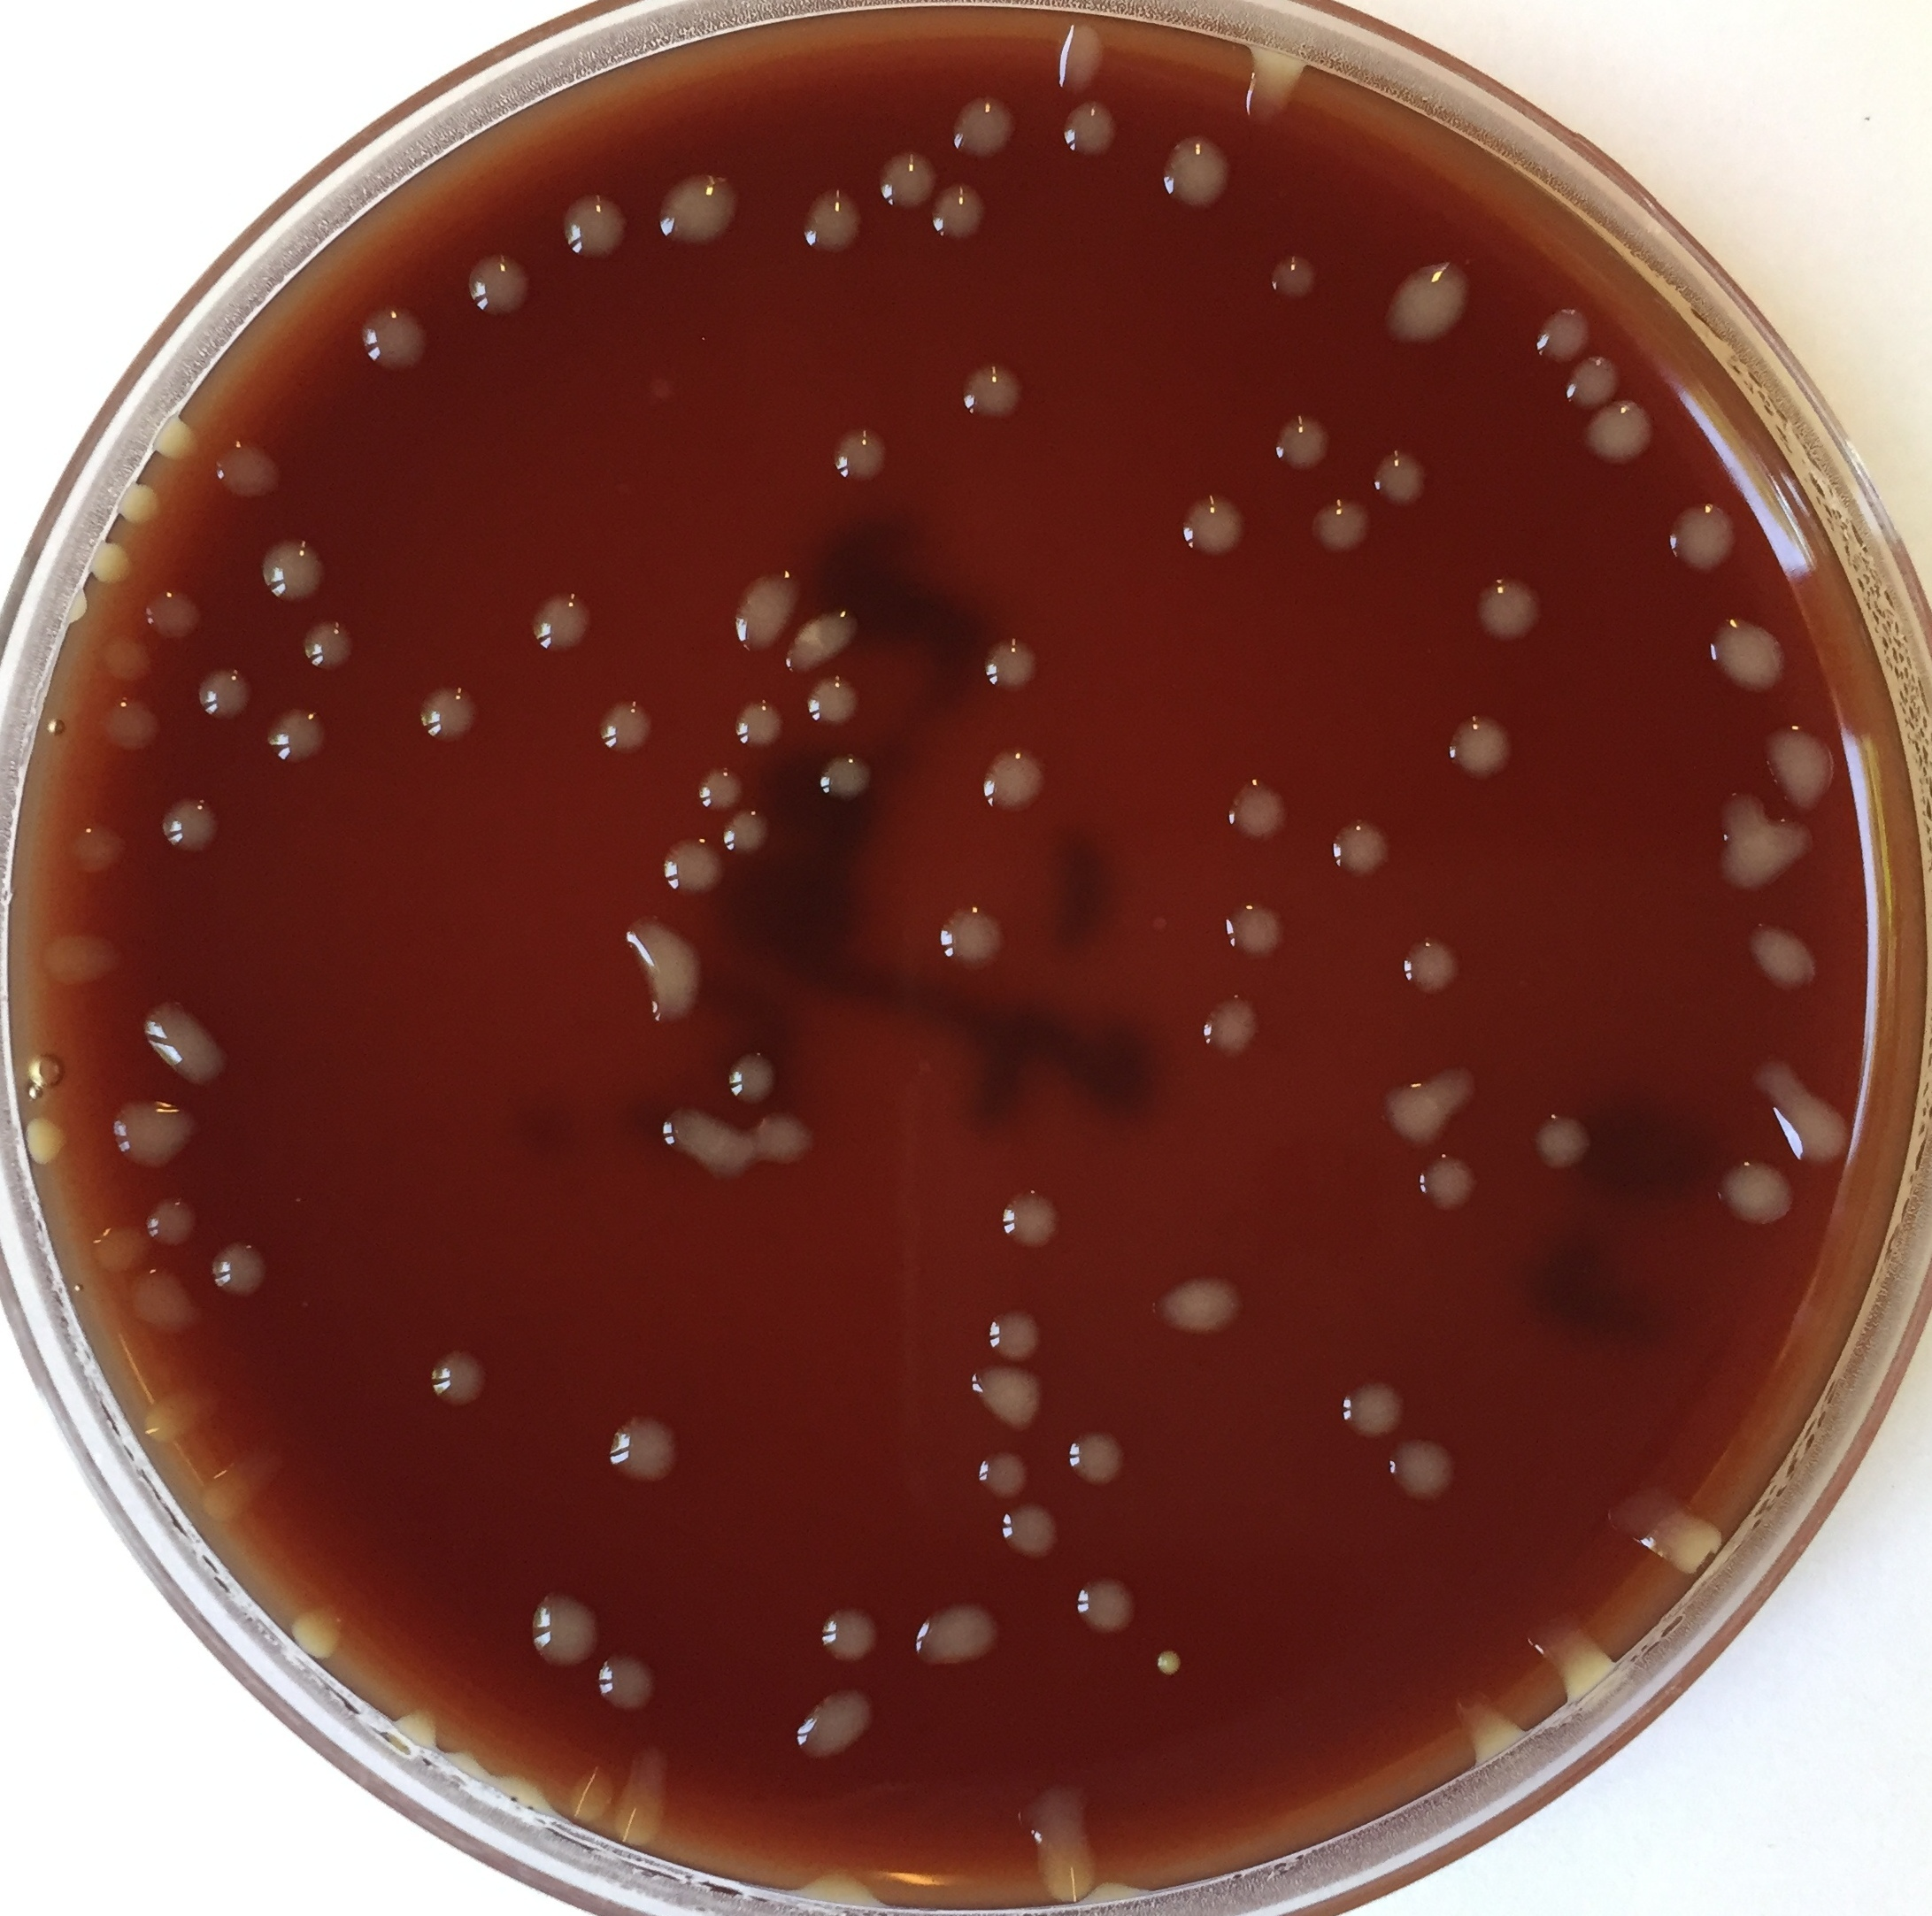sp19: (1742, 1049, 1858, 1169), (1707, 783, 1820, 895), (616, 914, 716, 1037), (1606, 1484, 1727, 1581), (1018, 1779, 1113, 1897), (1377, 1055, 1483, 1155), (1376, 251, 1483, 349), (1523, 1600, 1621, 1702), (132, 990, 233, 1086), (602, 1735, 681, 1849), (662, 1102, 758, 1191), (1700, 614, 1795, 704), (711, 565, 802, 654), (760, 1855, 890, 1916), (904, 1595, 1005, 1672), (1758, 719, 1841, 814), (1228, 39, 1313, 130), (770, 604, 870, 679), (1742, 914, 1832, 998), (651, 168, 742, 251), (1153, 130, 1241, 214), (1146, 1272, 1253, 1340), (118, 1270, 219, 1342), (1576, 395, 1665, 475), (107, 1093, 200, 1170), (523, 1590, 604, 1676), (600, 1411, 688, 1490), (788, 1686, 883, 1758), (560, 188, 640, 272), (195, 1453, 286, 1526), (1470, 570, 1556, 647), (35, 926, 135, 991), (1713, 1151, 1799, 1226), (1667, 493, 1741, 581), (353, 300, 440, 374), (462, 247, 542, 326), (974, 740, 1056, 816), (1221, 774, 1306, 847), (962, 1363, 1046, 1435), (953, 358, 1037, 430), (1446, 1688, 1528, 1760), (1385, 1433, 1463, 1507), (1441, 712, 1521, 784), (930, 904, 1005, 979), (1193, 990, 1270, 1063), (797, 188, 876, 260), (1177, 490, 1255, 561), (1048, 21, 1120, 98), (653, 835, 741, 898), (209, 440, 291, 507), (1330, 1367, 1404, 1441), (140, 1377, 216, 1449), (1323, 814, 1399, 886), (526, 586, 604, 656), (254, 535, 330, 605), (591, 690, 662, 761), (1265, 409, 1337, 479), (1070, 1572, 1144, 1641), (995, 1186, 1067, 1255), (1306, 493, 1381, 558), (1523, 1109, 1593, 1177), (591, 1653, 663, 1719), (1367, 442, 1434, 514), (260, 704, 332, 769), (1218, 897, 1290, 962), (1416, 1149, 1485, 1216), (751, 1109, 819, 1176), (1393, 932, 1465, 995), (946, 95, 1020, 156), (58, 816, 133, 874), (872, 149, 939, 214), (925, 177, 988, 246), (153, 795, 223, 856), (97, 693, 163, 756), (423, 1348, 490, 1411), (830, 421, 891, 490), (997, 1502, 1065, 1562), (730, 693, 793, 756), (1528, 304, 1593, 365), (89, 626, 156, 686), (191, 667, 258, 726), (979, 635, 1046, 695), (718, 1051, 784, 1111), (983, 1300, 1046, 1362), (1560, 353, 1623, 414), (300, 616, 365, 676), (804, 674, 869, 733), (284, 1600, 351, 1658), (1063, 1432, 1130, 1490), (553, 1763, 618, 1821), (418, 684, 484, 740), (816, 1607, 879, 1665), (1263, 247, 1328, 304), (1056, 98, 1121, 154), (84, 1219, 151, 1274), (142, 1193, 205, 1249), (691, 760, 755, 816), (812, 751, 877, 805), (142, 586, 202, 642), (207, 1242, 267, 1298), (972, 1449, 1028, 1504), (716, 805, 774, 858), (18, 1114, 77, 1163), (151, 412, 205, 465), (114, 474, 165, 525), (86, 535, 135, 584), (384, 1688, 433, 1737), (56, 584, 89, 626)
